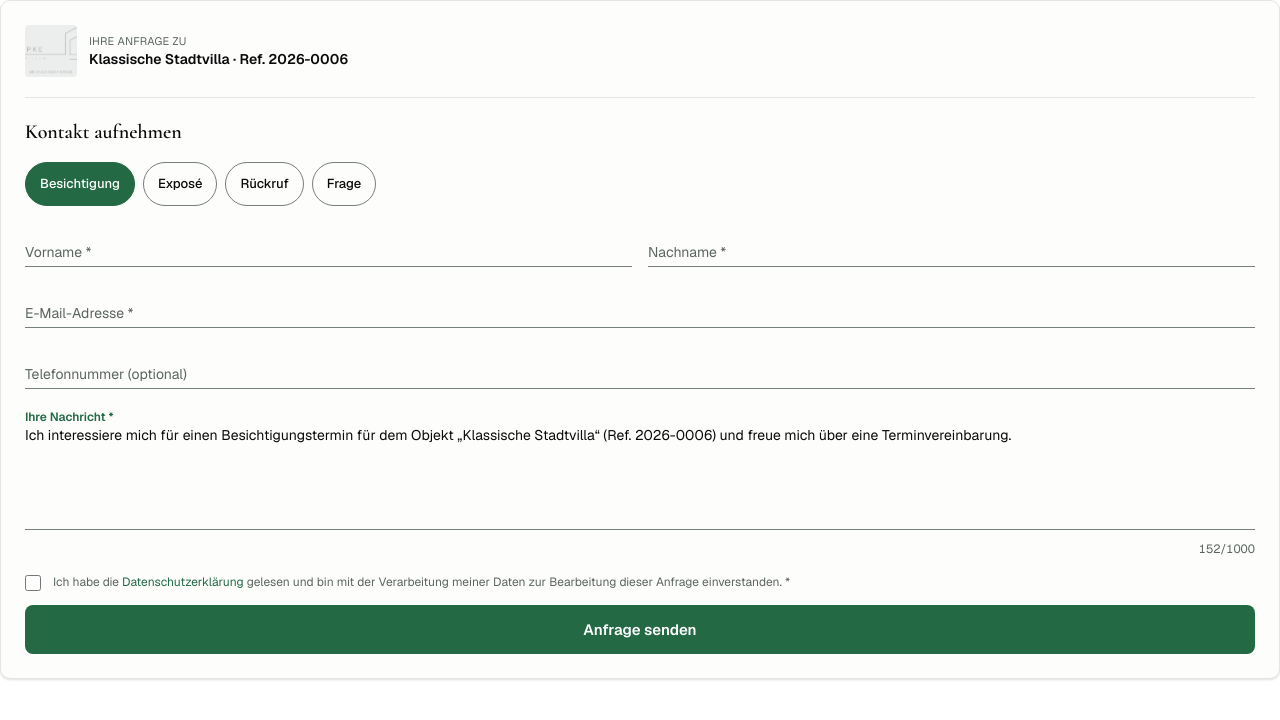
PropertyInquiryPanel › keeps the form open and reports missing consent
Type "Anna" into the field labelled "Vorname *" at (328, 246), box [25, 226, 632, 267]
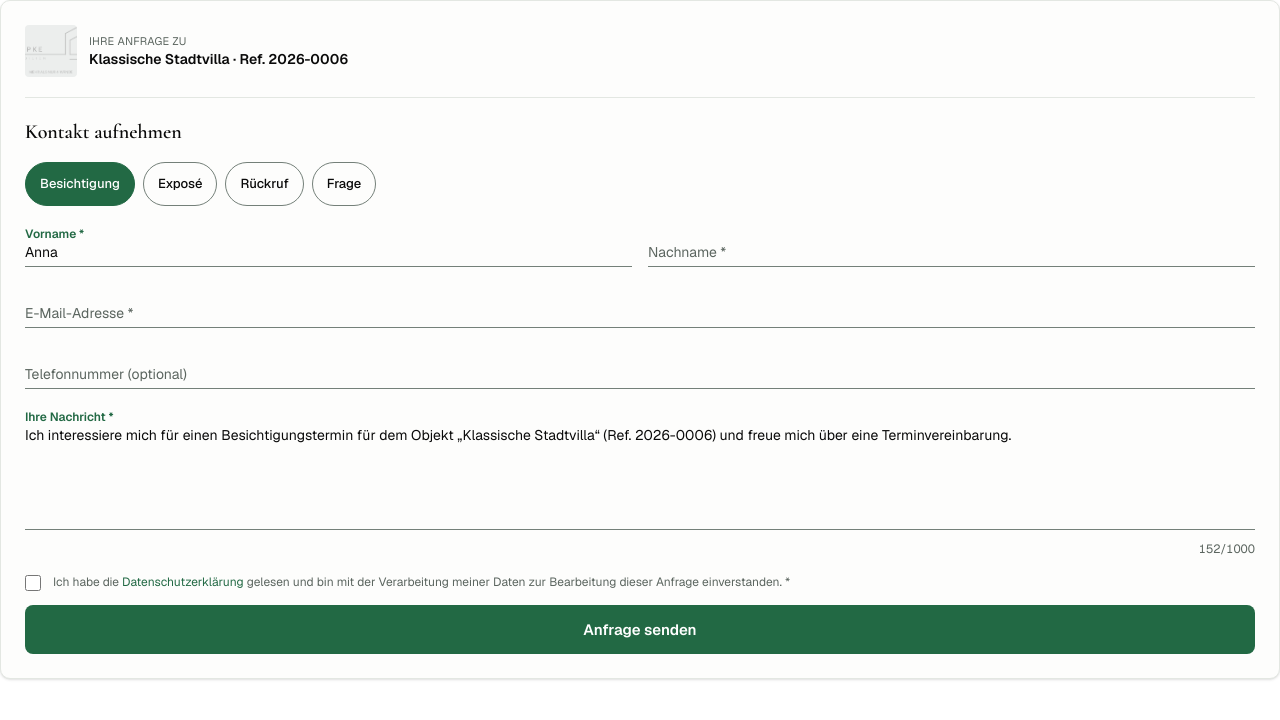
Type "Muster" into the field labelled "Nachname *" at (952, 246), box [648, 226, 1255, 267]
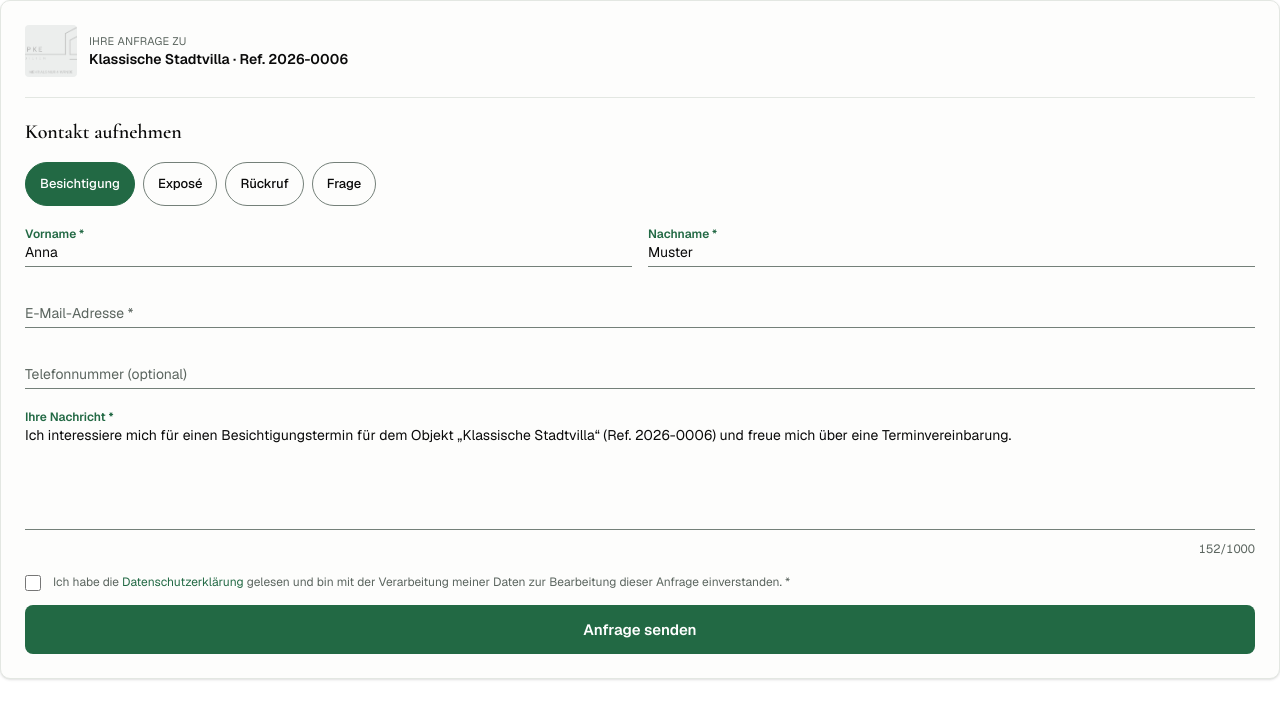
Type "anna@example.com" into the field labelled "E-Mail-Adresse *" at (640, 308), box [25, 287, 1255, 328]
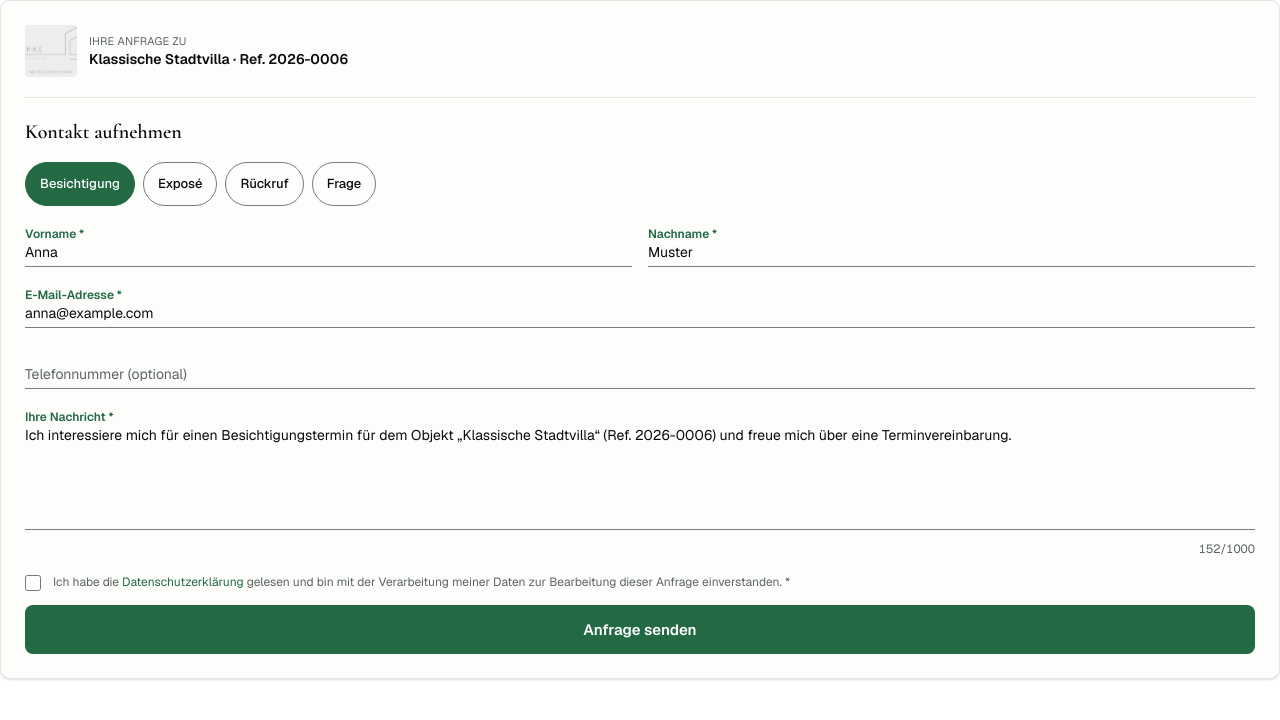
Click the button "Anfrage senden" at (640, 629), box [25, 604, 1255, 654]
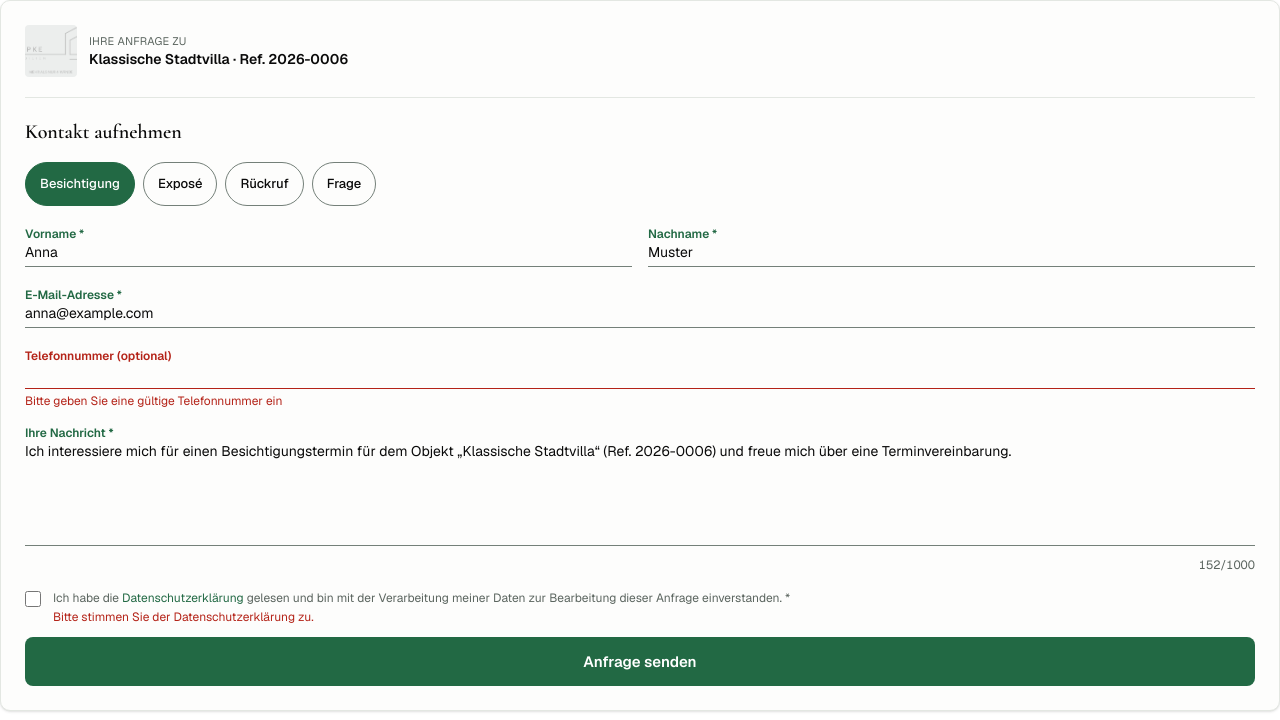
Check: the text "Bitte stimmen Sie der Datenschutzerklärung zu." is shown, box [53, 608, 314, 624]
